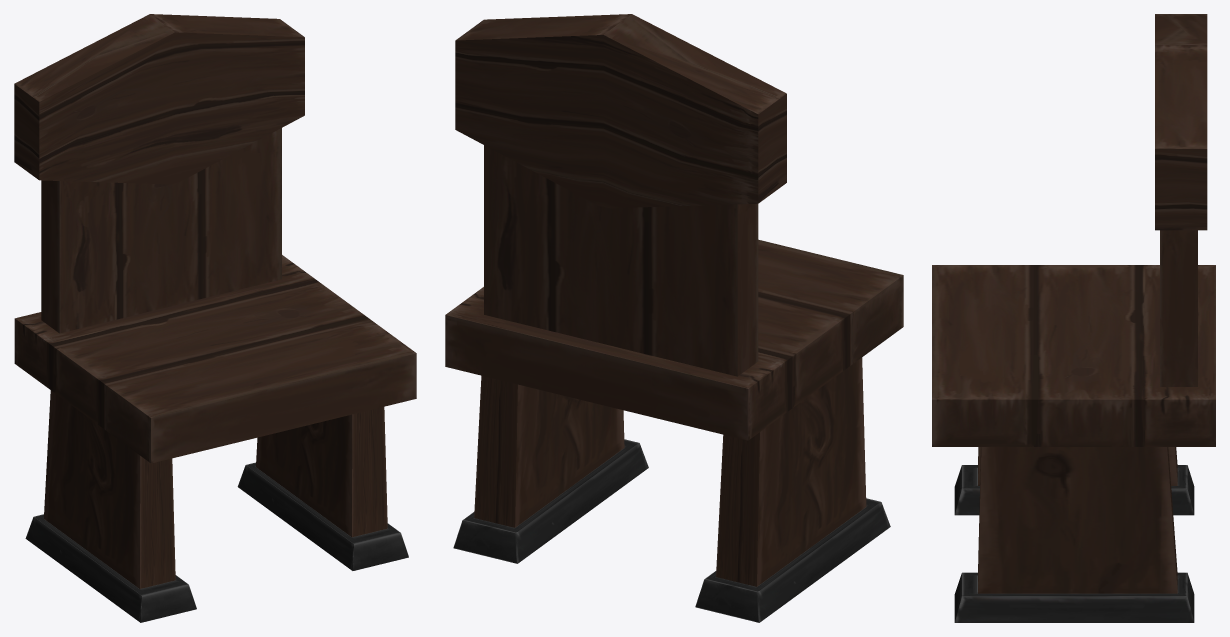
Rendered from Stoel.fbx.
3 renders of one model, left to right at view 1: azimuth 30°, elevation 25°; view 2: azimuth 150°, elevation 25°; view 3: azimuth 270°, elevation 25°, orthographic. The views are drawn at different scales.
Visible parts, largest first — view 1: pasted__pasted__pCube4, pasted__pasted__pasted__pCube4, pasted__pasted__pasted__pasted__pCube4, pasted__pasted__pasted__pasted__pasted__pasted__pCube2, pasted__pasted__pasted__pasted__pasted__pasted__pasted__pCub; view 2: pasted__pasted__pasted__pCube4, pasted__pasted__pasted__pasted__pCube4, pasted__pasted__pCube4, pasted__pasted__pasted__pasted__pasted__pasted__pCube2, pasted__pasted__pasted__pasted__pasted__pasted__pasted__pCub; view 3: pasted__pasted__pCube4, pasted__pasted__pasted__pasted__pasted__pasted__pasted__pCub, pasted__pasted__pasted__pCube4, pasted__pasted__pasted__pasted__pCube4, pasted__pasted__pasted__pasted__pasted__pasted__pCube2.
Boxes of the visible parts, left/top/right/bottom form: pasted__pasted__pCube4: left=14, top=255, right=416, bottom=463; pasted__pasted__pasted__pCube4: left=14, top=14, right=304, bottom=184; pasted__pasted__pasted__pasted__pCube4: left=41, top=128, right=281, bottom=333; pasted__pasted__pasted__pasted__pasted__pasted__pCube2: left=25, top=390, right=196, bottom=622; pasted__pasted__pasted__pasted__pasted__pasted__pasted__pCub: left=237, top=407, right=408, bottom=570; pasted__pasted__pasted__pCube4: left=455, top=14, right=786, bottom=208; pasted__pasted__pasted__pasted__pCube4: left=484, top=145, right=758, bottom=376; pasted__pasted__pCube4: left=445, top=239, right=903, bottom=440; pasted__pasted__pasted__pasted__pasted__pasted__pCube2: left=695, top=357, right=890, bottom=622; pasted__pasted__pasted__pasted__pasted__pasted__pasted__pCub: left=453, top=375, right=648, bottom=563; pasted__pasted__pCube4: left=932, top=265, right=1215, bottom=446; pasted__pasted__pasted__pasted__pasted__pasted__pasted__pCub: left=954, top=447, right=1194, bottom=622; pasted__pasted__pasted__pCube4: left=1155, top=14, right=1207, bottom=230; pasted__pasted__pasted__pasted__pCube4: left=1160, top=230, right=1197, bottom=386; pasted__pasted__pasted__pasted__pasted__pasted__pCube2: left=954, top=447, right=1194, bottom=515.
Bounding box in the file's own units: 2.68 × 4.57 × 2.31.
